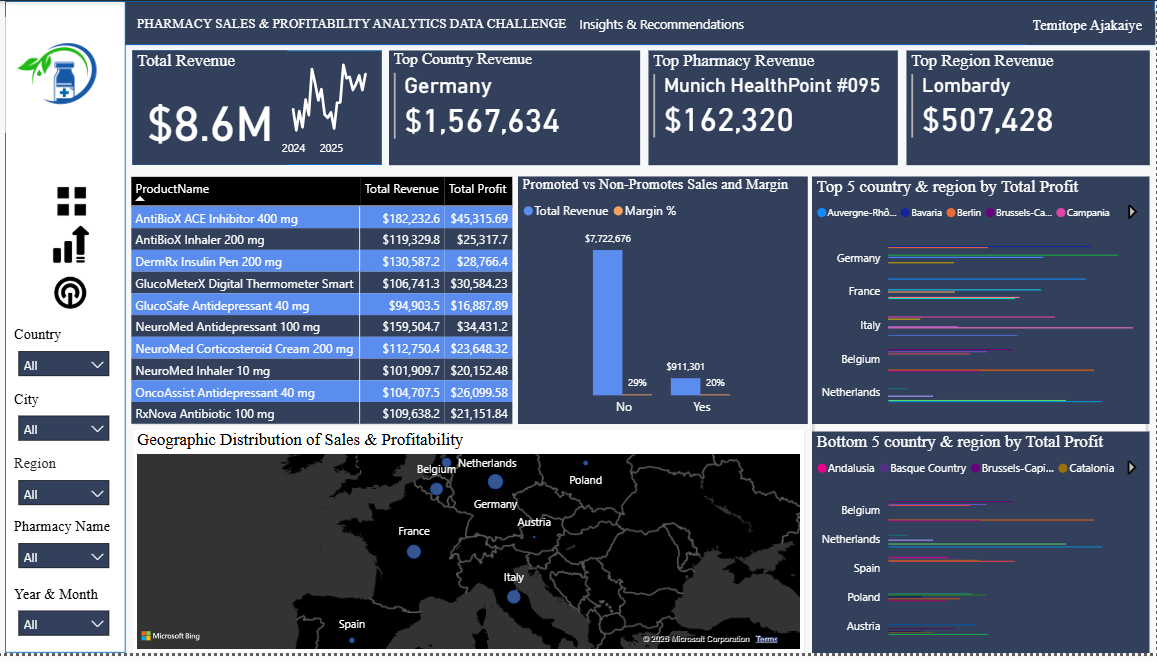

This screenshot's page, from the dashboard's own definition file:
{"tool":"powerbi","page":{"name":"Insights ","canvas":[1280,720],"ordinal":2},"visuals":[{"type":"shape","box":[9.7,0,133.3,719.8],"z":0},{"type":"shape","box":[143,0,1137,48.6],"z":1000},{"type":"shape","box":[150.8,55.4,275.3,126.4],"z":2000},{"type":"shape","box":[434.8,55.4,277.2,126.4],"z":3000},{"type":"shape","box":[719.8,55.4,275.3,126.4],"z":4000},{"type":"shape","box":[1004.7,55.4,268.4,126.4],"z":5000},{"type":"shape","box":[150.5,201.3,420,265.7],"z":6000},{"type":"shape","box":[900.7,201.3,371.6,518.4],"z":7000},{"type":"shape","box":[150.5,474.3,742.7,245.7],"z":8000},{"type":"textbox","box":[150.8,10.7,501.9,37.9],"z":9000},{"type":"textbox","box":[640,10.7,214,37.9],"z":10000},{"type":"image","box":[5,0,137.5,164],"z":11000},{"type":"pivotTable","fields":{"Rows":["DimProduct.ProductName"],"Values":["FactSales.Total Revenue","FactSales.Total Profit"]},"box":[144.1,188.8,432.3,286.6],"z":12000},{"type":"slicer","title":"City","fields":{"Values":["DimPharmacy.City"]},"box":[15.4,430.7,119.7,59.8],"z":13000},{"type":"slicer","title":"Country","fields":{"Values":["DimPharmacy.Country"]},"box":[15.4,360,119.7,59.8],"z":14000},{"type":"slicer","title":"Year & Month","fields":{"Values":["DimDate.Year","DimDate.YearMonth"]},"box":[15.4,646.5,119.7,59.8],"z":15000},{"type":"slicer","title":"Pharmacy Name","fields":{"Values":["DimPharmacy.PharmacyName"]},"box":[15.4,572.2,119.7,59.8],"z":16000},{"type":"slicer","title":"Region","fields":{"Values":["DimPharmacy.Region"]},"box":[15.4,502.4,119.7,59.8],"z":17000},{"type":"shape","box":[576.5,193.8,316.4,263.4],"z":18000},{"type":"clusteredColumnChart","title":"Promoted vs Non-Promotes Sales and Margin","fields":{"Category":["FactSales.PromoFlag"],"Y":["FactSales.Total Revenue","FactSales.Margin %"]},"box":[576.5,193.8,319.7,273.3],"z":19000},{"type":"map","title":"Geographic Distribution of Sales & Profitability","fields":{"Category":["DimPharmacy.Country"],"Size":["FactSales.Total Revenue"]},"box":[150.7,473.8,742.1,246.8],"z":20000},{"type":"clusteredBarChart","title":"Top 5 country & region by Total Profit","fields":{"Category":["DimPharmacy.Country"],"Y":["FactSales.Total Profit"],"Series":["DimPharmacy.Region"]},"box":[901.1,193.8,372.7,273.3],"z":21000},{"type":"clusteredBarChart","title":"Bottom 5 country & region by Total Profit","fields":{"Category":["DimPharmacy.Country"],"Y":["FactSales.Total Profit"],"Series":["DimPharmacy.Region"]},"box":[900.7,474.7,372.5,245.1],"z":22000},{"type":"card","title":"Total Revenue ","fields":{"Values":["FactSales.Total Revenue"]},"box":[150.7,54.7,170.6,125.9],"z":23000},{"type":"multiRowCard","title":"Top Country Revenue","fields":{"Values":["DimDate.Top Country","DimDate.Top Country Revenue"]},"box":[434.8,55.4,277.2,126.4],"z":24000},{"type":"multiRowCard","title":"Top Pharmacy Revenue","fields":{"Values":["DimDate.Top Pharmacy","DimDate.Top Pharmacy Revenue2"]},"box":[719.8,55.4,275.3,126.4],"z":25000},{"type":"multiRowCard","title":"Top Region Revenue","fields":{"Values":["DimDate.Top Region","DimDate.Top Region Revenue"]},"box":[1004.7,55.4,268.4,126.4],"z":26000},{"type":"textbox","box":[1139.7,11.6,140.8,36.4],"z":27000},{"type":"image","box":[56.3,193.8,54.7,54.7],"z":28000},{"type":"image","box":[54.7,241.8,54.7,54.7],"z":29000},{"type":"image","box":[54.7,294.9,54.7,54.7],"z":30000},{"type":"lineChart","fields":{"Category":["DimDate.YearMonth.Variation.Date Hierarchy.Year","DimDate.YearMonth.Variation.Date Hierarchy.Quarter","DimDate.YearMonth.Variation.Date Hierarchy.Month","DimDate.YearMonth.Variation.Date Hierarchy.Day"],"Y":["FactSales.Total Revenue"]},"box":[309.8,48,116,132.5],"z":31000}]}

Visuals, with their boxes on the page's 1280x720 design canvas (x1, y1, x2, y2). These are canvas units, not pixel positions in the 1157x665 screenshot, which may show the page scaled, cropped or inside an application window:
shape: crop(10, 0, 143, 720)
shape: crop(143, 0, 1280, 49)
shape: crop(151, 55, 426, 182)
shape: crop(435, 55, 712, 182)
shape: crop(720, 55, 995, 182)
shape: crop(1005, 55, 1273, 182)
shape: crop(150, 201, 570, 467)
shape: crop(901, 201, 1272, 720)
shape: crop(150, 474, 893, 720)
textbox: crop(151, 11, 653, 49)
textbox: crop(640, 11, 854, 49)
image: crop(5, 0, 142, 164)
pivotTable - DimProduct.ProductName x FactSales.Total Revenue: crop(144, 189, 576, 475)
"City" slicer: crop(15, 431, 135, 490)
"Country" slicer: crop(15, 360, 135, 420)
"Year & Month" slicer: crop(15, 646, 135, 706)
"Pharmacy Name" slicer: crop(15, 572, 135, 632)
"Region" slicer: crop(15, 502, 135, 562)
shape: crop(576, 194, 893, 457)
"Promoted vs Non-Promotes Sales and Margin" clusteredColumnChart: crop(576, 194, 896, 467)
"Geographic Distribution of Sales & Profitability" map: crop(151, 474, 893, 721)
"Top 5 country & region by Total Profit" clusteredBarChart: crop(901, 194, 1274, 467)
"Bottom 5 country & region by Total Profit" clusteredBarChart: crop(901, 475, 1273, 720)
"Total Revenue " card: crop(151, 55, 321, 181)
"Top Country Revenue" multiRowCard: crop(435, 55, 712, 182)
"Top Pharmacy Revenue" multiRowCard: crop(720, 55, 995, 182)
"Top Region Revenue" multiRowCard: crop(1005, 55, 1273, 182)
textbox: crop(1140, 12, 1280, 48)
image: crop(56, 194, 111, 248)
image: crop(55, 242, 109, 296)
image: crop(55, 295, 109, 350)
lineChart - DimDate.YearMonth.Variation.Date Hierarchy.Year x DimDate.YearMonth.Variation.Date Hierarchy.Quarter: crop(310, 48, 426, 180)
